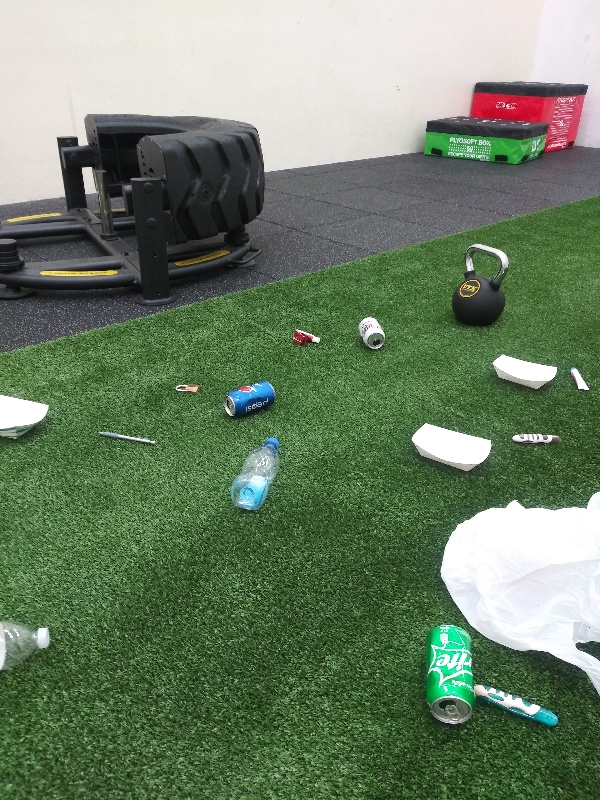bottle: (226, 435, 291, 520), (4, 614, 58, 679)
can: (420, 619, 479, 731), (218, 375, 281, 423), (353, 315, 388, 353)
plate: (405, 420, 496, 478), (486, 351, 561, 397), (1, 389, 49, 447)
